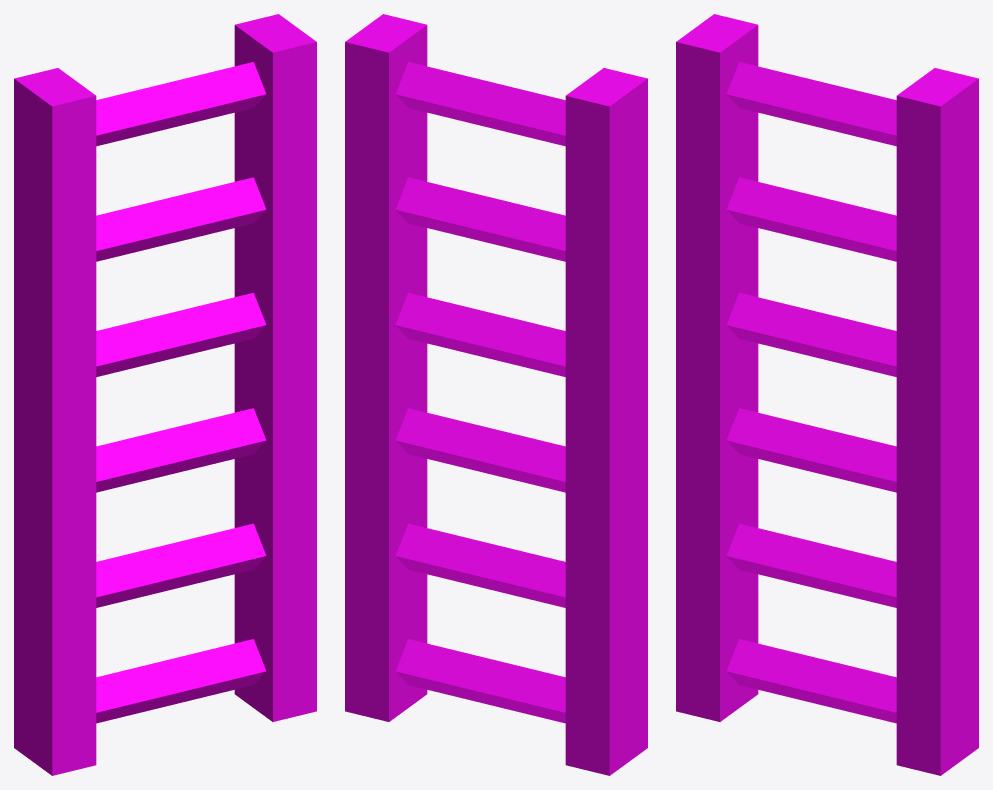
Rendered from ladder.obj.
3 renders of one model, left to right at view 1: azimuth 30°, elevation 25°; view 2: azimuth 150°, elevation 25°; view 3: azimuth 330°, elevation 25°, orthographic.
Visible parts, largest first — view 1: ladder_back; view 2: ladder_back; view 3: ladder_back.
Boxes of the visible parts, box(x1,y1,x2,y2) form: ladder_back: box(14, 14, 316, 775); ladder_back: box(345, 14, 647, 775); ladder_back: box(676, 14, 978, 775).
Bounding box in the file's own units: 0.96 × 2.32 × 0.24.
